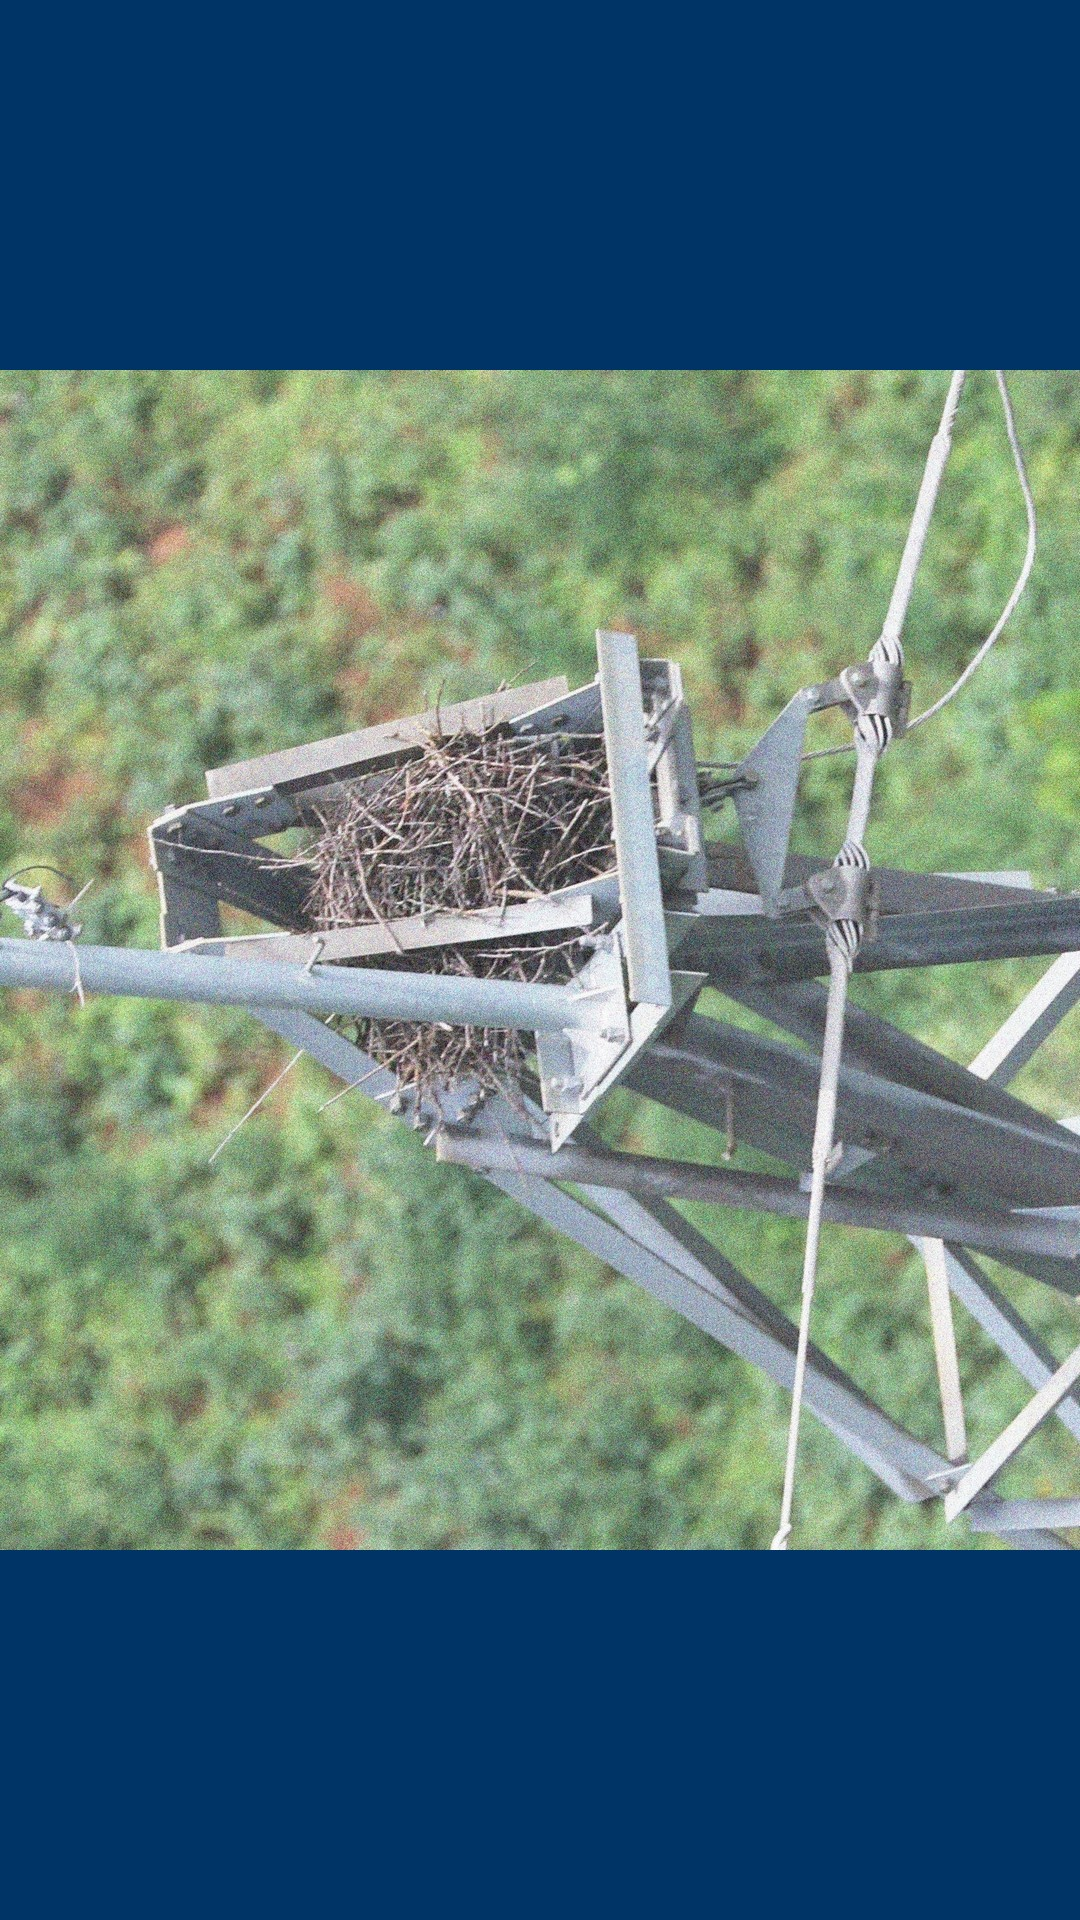niaowo: (264, 687, 649, 1129)
